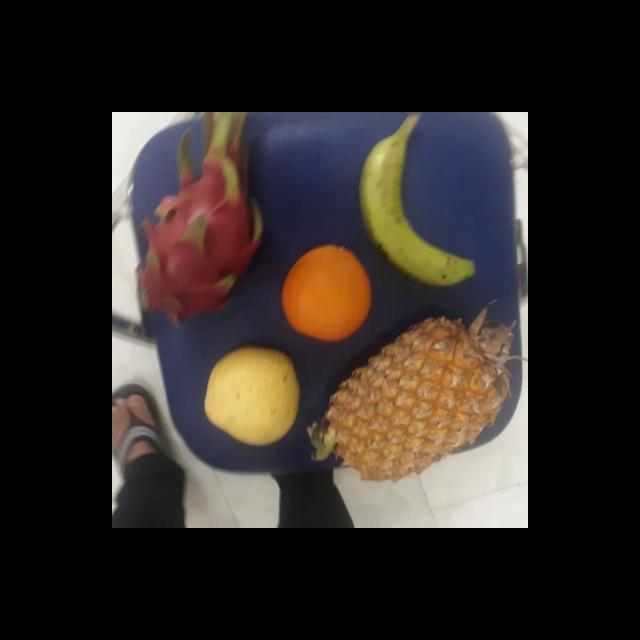banana: (360, 122, 466, 282)
orange: (283, 242, 375, 341)
pear: (203, 344, 304, 449)
pineapple: (324, 316, 518, 486)
pitaya: (140, 120, 262, 326)
